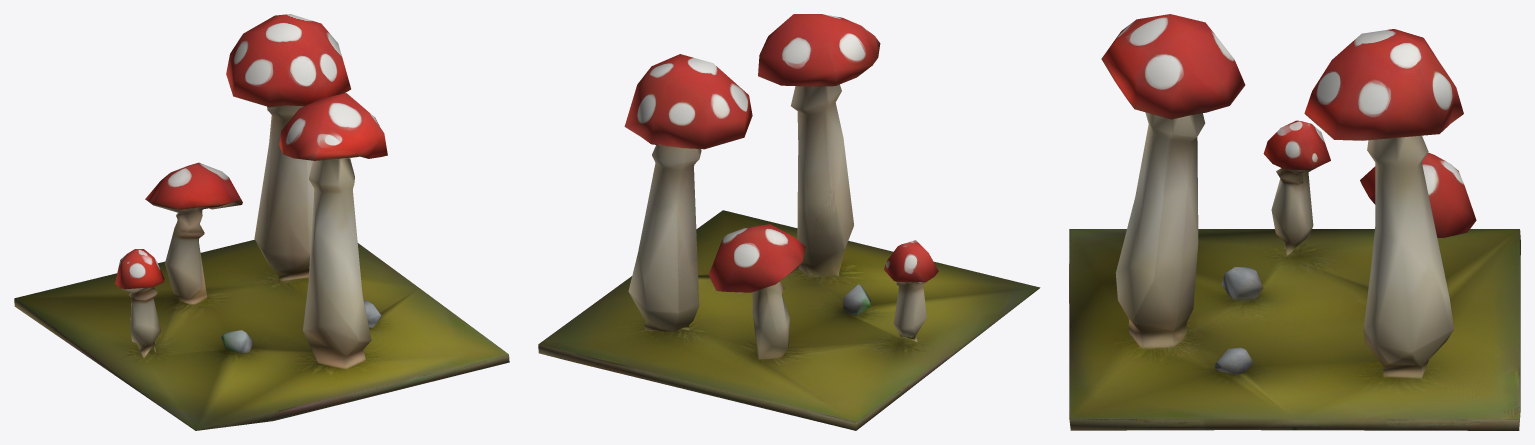
Rendered from mushroom.glb.
The picture shows the model from 3 angles, left to right: view 1: azimuth 30°, elevation 25°; view 2: azimuth 150°, elevation 25°; view 3: azimuth 270°, elevation 25°; orthographic projection. The views are drawn at different scales.
Size of the model in its own units: 2 by 1.65 by 2.
1 material, 1 textured.
